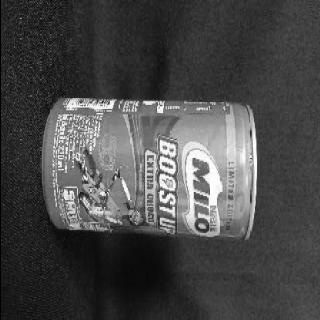alumunium_can: (40, 98, 256, 241)
